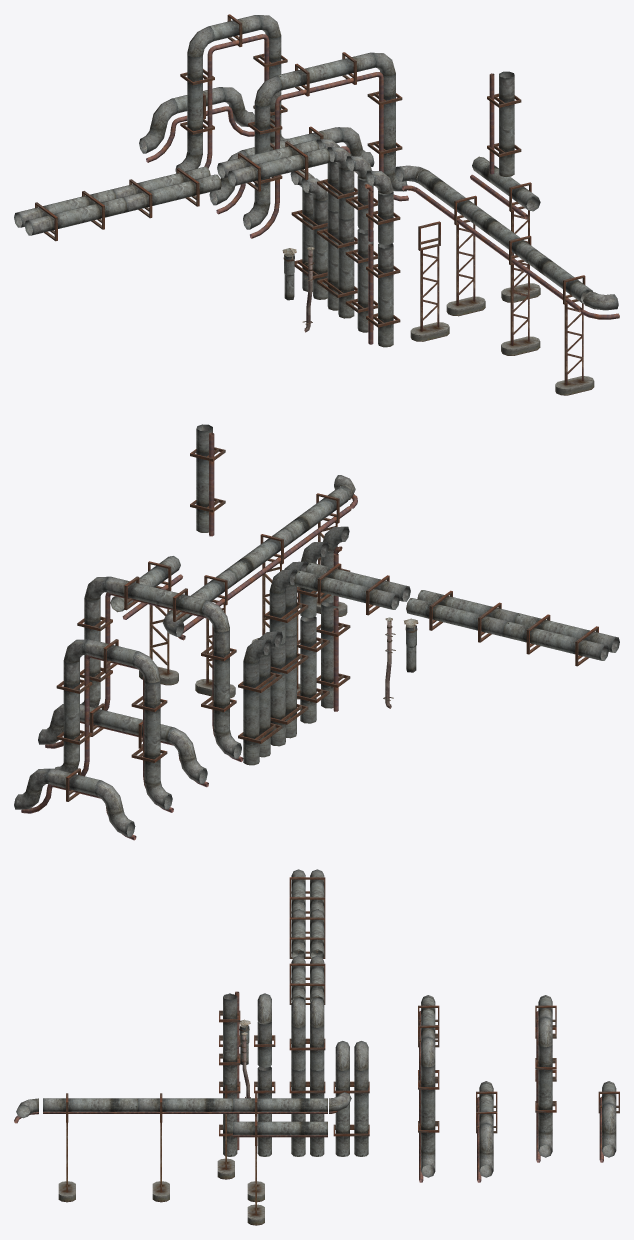
File: Pipes_set_v1.FBX
3 views of the same model, one above another, from view 1: azimuth 30°, elevation 25°; view 2: azimuth 150°, elevation 25°; view 3: azimuth 270°, elevation 25° (orthographic). The views are drawn at different scales.
Visible parts, largest first — view 1: Pipes_set_v1_H_set_v1, Pipes_set_v1_U_set_v1, Pipes_set_v1_U_set_v3, Pipes_set_v1_H_set_v4, Pipes_set_v1_V_set_v1, Pipes_set_v1_H_set_v3, Pipes_set_v1_V_set_v2, Pipes_set_v1_U_set_v4, Pipes_set_v1_H_set_v2, Pipes_set_v1_tile_d003, Pipes_set_v1_tile_d2, Pipes_set_v1_U_set_v2 (+6 smaller); view 2: Pipes_set_v1_U_set_v1, Pipes_set_v1_U_set_v3, Pipes_set_v1_H_set_v4, Pipes_set_v1_H_set_v1, Pipes_set_v1_V_set_v1, Pipes_set_v1_V_set_v2, Pipes_set_v1_U_set_v2, Pipes_set_v1_H_set_v3, Pipes_set_v1_U_set_v4, Pipes_set_v1_tile_d003, Pipes_set_v1_H_set_v2, Pipes_set_v1_tile_d2 (+2 smaller); view 3: Pipes_set_v1_H_set_v1, Pipes_set_v1_V_set_v1, Pipes_set_v1_U_set_v1, Pipes_set_v1_V_set_v2, Pipes_set_v1_U_set_v3, Pipes_set_v1_H_set_v4, Pipes_set_v1_H_set_v2, Pipes_set_v1_U_set_v2, Pipes_set_v1_tile_d003, Pipes_set_v1_H_set_v3, Pipes_set_v1_U_set_v4, Pipes_set_v1_tile_s2 (+3 smaller).
Boxes of the visible parts, x1,y1,x2,y2 form: Pipes_set_v1_H_set_v1: (415,170,594,395); Pipes_set_v1_U_set_v1: (243,52,408,238); Pipes_set_v1_U_set_v3: (175,14,288,173); Pipes_set_v1_H_set_v4: (14,166,221,241); Pipes_set_v1_V_set_v1: (316,139,357,318); Pipes_set_v1_H_set_v3: (217,140,330,191); Pipes_set_v1_V_set_v2: (290,170,327,299); Pipes_set_v1_U_set_v4: (139,87,254,162); Pipes_set_v1_H_set_v2: (470,156,540,302); Pipes_set_v1_tile_d003: (487,71,521,176); Pipes_set_v1_tile_d2: (366,243,400,347); Pipes_set_v1_U_set_v2: (209,126,374,214); Pipes_set_v1_U_set_v1: (77,576,243,761); Pipes_set_v1_U_set_v3: (54,639,173,812); Pipes_set_v1_H_set_v4: (406,590,619,666); Pipes_set_v1_H_set_v1: (169,487,351,698); Pipes_set_v1_V_set_v1: (264,561,308,746); Pipes_set_v1_V_set_v2: (238,631,282,765); Pipes_set_v1_U_set_v2: (38,703,208,787); Pipes_set_v1_H_set_v3: (294,562,410,615); Pipes_set_v1_U_set_v4: (14,768,136,840); Pipes_set_v1_tile_d003: (190,424,225,536); Pipes_set_v1_H_set_v2: (110,556,182,685); Pipes_set_v1_tile_d2: (316,601,350,711); Pipes_set_v1_H_set_v1: (43,1093,327,1202); Pipes_set_v1_V_set_v1: (289,997,325,1156); Pipes_set_v1_U_set_v1: (418,995,439,1182); Pipes_set_v1_V_set_v2: (333,1041,369,1156); Pipes_set_v1_U_set_v3: (535,995,556,1162); Pipes_set_v1_H_set_v4: (289,869,325,958); Pipes_set_v1_H_set_v2: (233,1116,327,1225); Pipes_set_v1_U_set_v2: (476,1081,497,1182); Pipes_set_v1_tile_d003: (219,991,240,1085); Pipes_set_v1_H_set_v3: (289,955,325,1004); Pipes_set_v1_U_set_v4: (598,1081,619,1162); Pipes_set_v1_tile_s2: (254,1066,275,1156).
Bounding box in the file's own units: 23.6 × 11.12 × 29.26.
